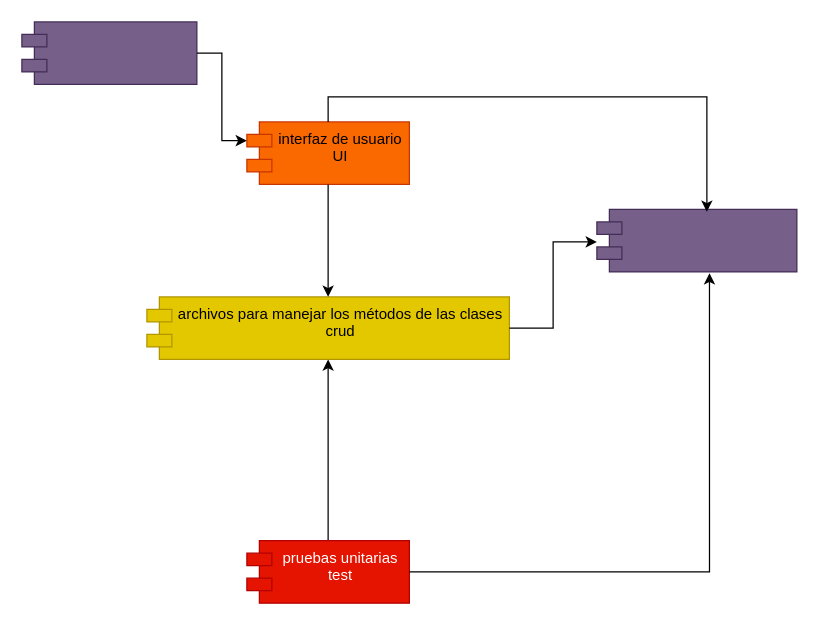
Image size: 819x625. Some labels were removed from this diagram. Each missing label, with the centre of its shape:
"definición de las clases modelo" belongs at point 696,240.
"Iniciador de código main" belongs at point 109,52.
